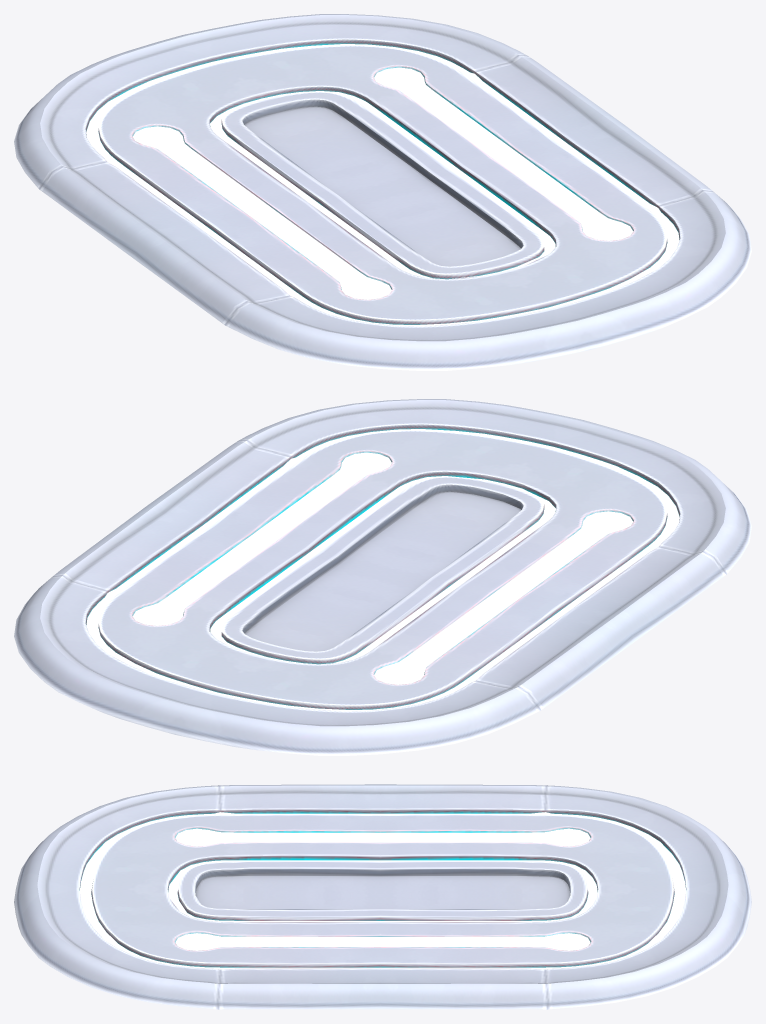
File: obj_planting.gltf
3 views of the same model, one above another, from view 1: azimuth 30°, elevation 25°; view 2: azimuth 150°, elevation 25°; view 3: azimuth 270°, elevation 25° (orthographic). The views are drawn at different scales.
Visible parts, largest first — view 1: obj_planting; view 2: obj_planting; view 3: obj_planting.
Boxes of the visible parts, x1,y1,x2,y2 form: obj_planting: (14,14,751,370); obj_planting: (14,399,751,755); obj_planting: (14,784,751,1009).
Size of what is drawn, in the model's own units: 3.97 by 0.1483 by 5.68.
Materials: 2 (1 with a texture image).
